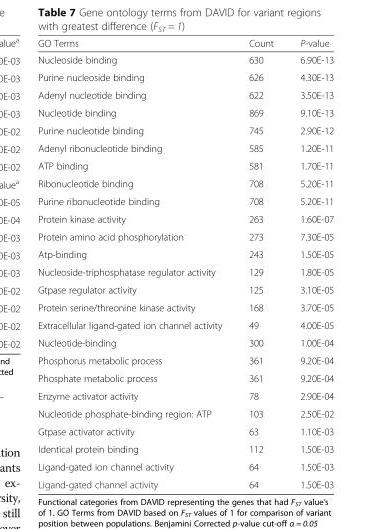table: (37, 37, 333, 489)
table column: (37, 37, 234, 489), (234, 37, 286, 489), (286, 37, 333, 489)
table column header: (37, 37, 333, 50)
table row: (37, 50, 333, 68), (37, 85, 333, 103), (37, 103, 333, 121), (37, 138, 333, 156), (37, 156, 333, 174), (37, 174, 333, 192), (37, 209, 333, 227), (37, 227, 333, 245), (37, 262, 333, 280), (37, 280, 333, 298), (37, 315, 333, 333), (37, 333, 333, 351), (37, 351, 333, 369), (37, 386, 333, 404), (37, 404, 333, 422), (37, 439, 333, 457), (37, 457, 333, 475), (37, 68, 333, 85), (37, 121, 333, 138), (37, 192, 333, 209), (37, 245, 333, 262), (37, 298, 333, 315), (37, 369, 333, 386), (37, 422, 333, 439), (37, 475, 333, 489), (37, 37, 333, 50)
